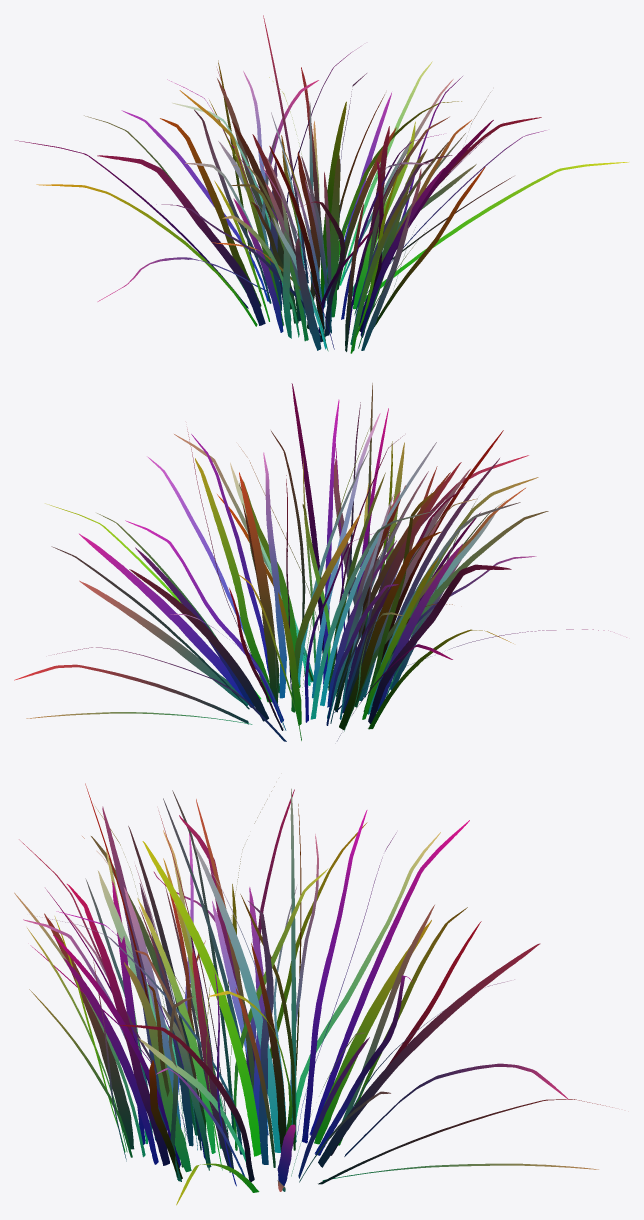
The model's file is Wild_Grass_vlkhcbxia_Raw_vlkhcbxia_VarG_LOD0.fbx.
The picture shows the model from 3 angles, top to bottom: view 1: azimuth 30°, elevation 25°; view 2: azimuth 150°, elevation 25°; view 3: azimuth 270°, elevation 25°; orthographic projection. The views are drawn at different scales.
Visible parts, largest first — view 1: _atsb_VarG_High; view 2: _atsb_VarG_High; view 3: _atsb_VarG_High.
Part boxes in pixels (<box>): _atsb_VarG_High: <box>15,15,628,353</box>; _atsb_VarG_High: <box>14,383,626,741</box>; _atsb_VarG_High: <box>14,783,612,1205</box>.
Size of the model in its own units: 25.32 by 11.1 by 19.61.
